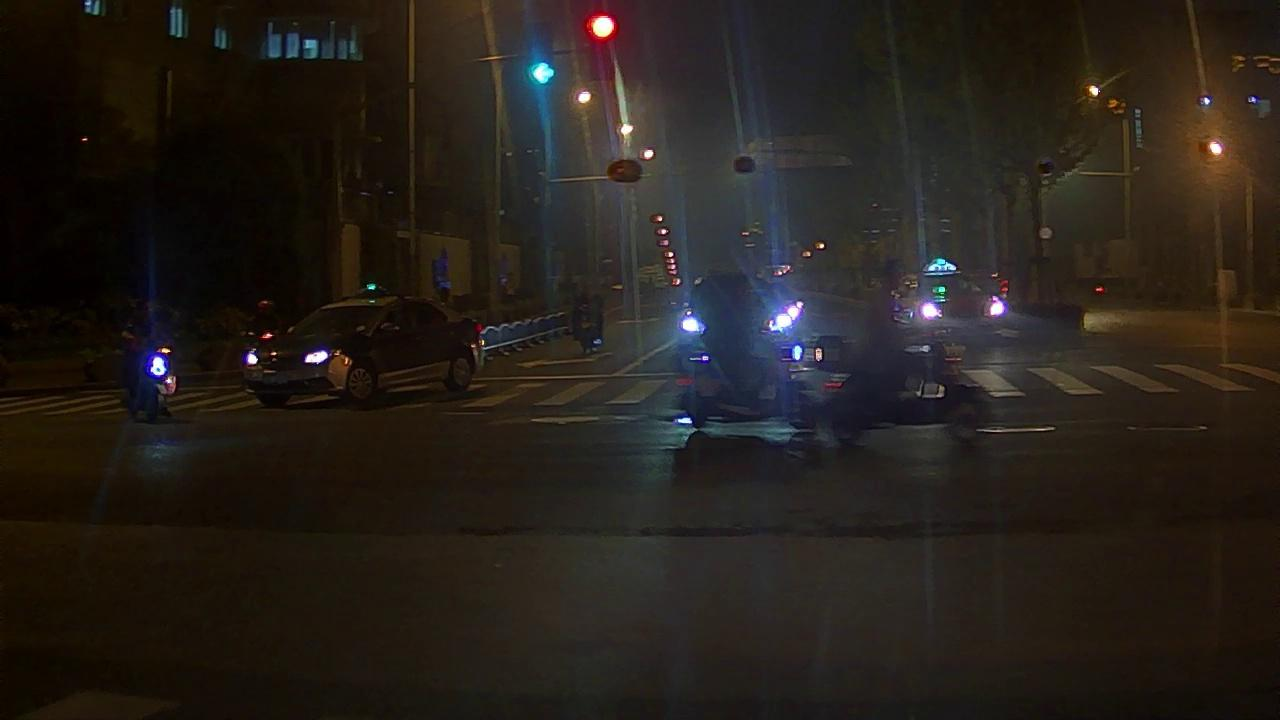traffic_light: (533, 25, 553, 84), (588, 15, 614, 38)
